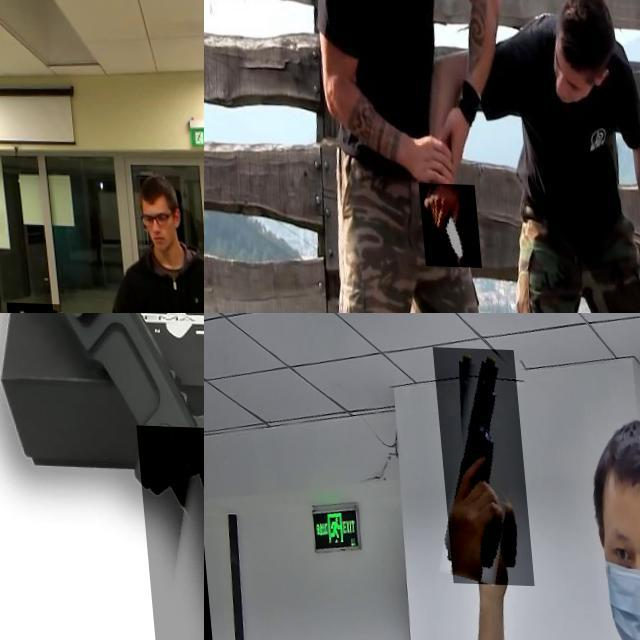-: (131, 423, 204, 640), (411, 181, 473, 266)
gun-knife-thesis - v11 Yolov5 augmented: (429, 346, 526, 584), (0, 300, 56, 313)
